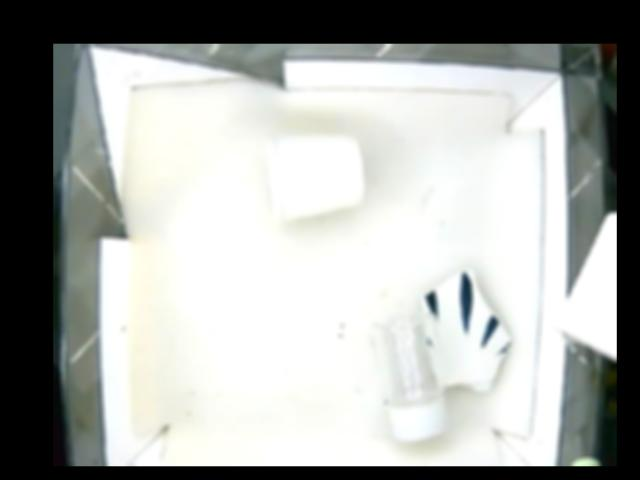Bottle: (376, 312, 450, 441)
China: (416, 264, 517, 394)
Cup: (262, 134, 365, 221)
